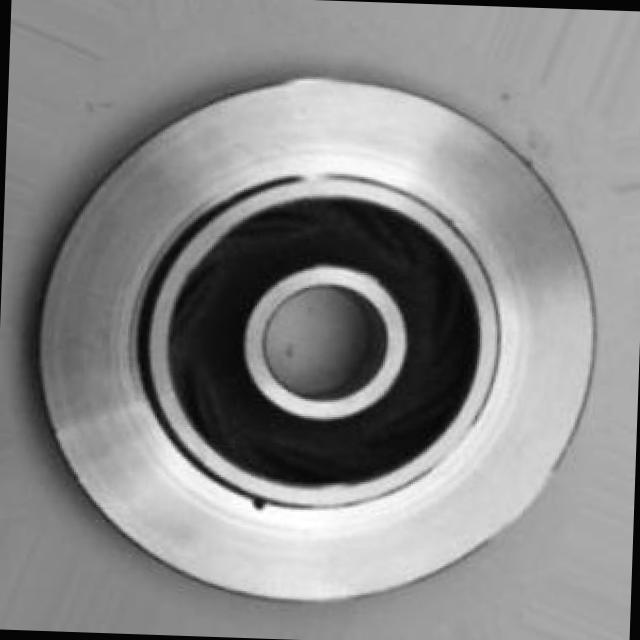Defect: (240, 487, 275, 523)
